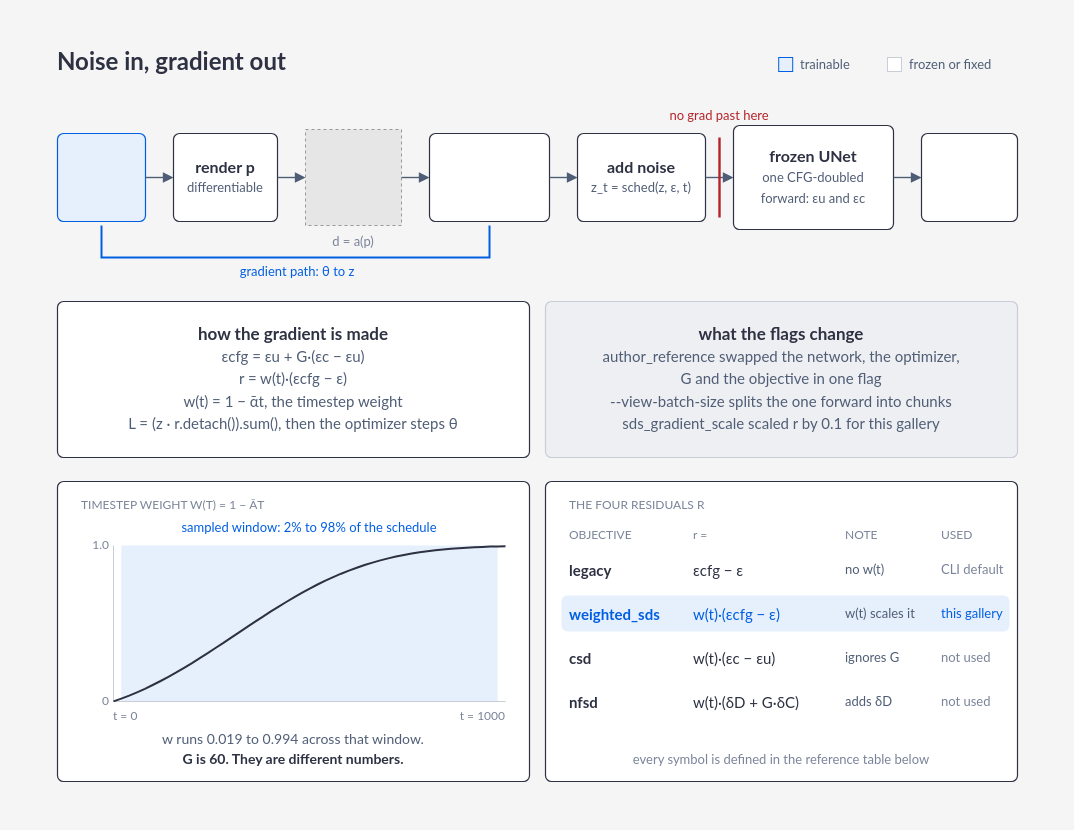
Some shapes in this 1074 by 830 pixel diagram are drawn without their labels. Grey dashed boxes stand in for pictures. The box of each missing label's shape, as (x1, y1, x2, y2) in pixels:
residual r built no_grad: (920, 132, 1018, 222)
VAE encode z · (1,4,64,64): (428, 132, 550, 222)
θ weights: (56, 132, 146, 222)
